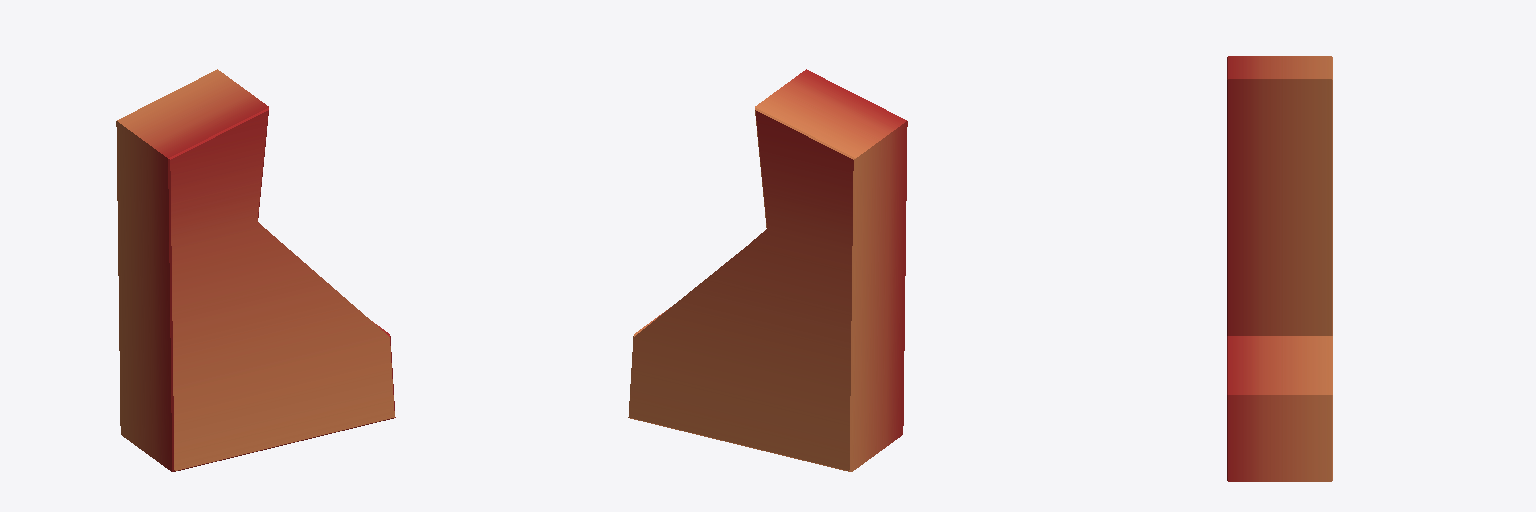
The picture shows the model from 3 angles: view 1: azimuth 30°, elevation 25°; view 2: azimuth 150°, elevation 25°; view 3: azimuth 270°, elevation 25°; orthographic projection.
Visible parts, largest first — view 1: polySurface14; view 2: polySurface14; view 3: polySurface14.
Part boxes in pixels (left/top/right/bottom): polySurface14: left=116, top=69, right=395, bottom=471; polySurface14: left=628, top=69, right=907, bottom=471; polySurface14: left=1227, top=56, right=1332, bottom=481.
Size of the model in its own units: 1.62 by 2.33 by 0.6578.
1 materials, 1 textured.